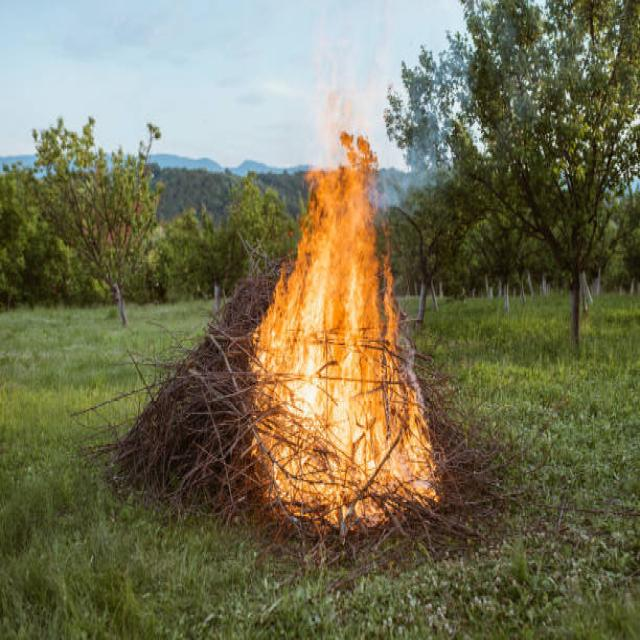fire: (247, 131, 442, 533)
